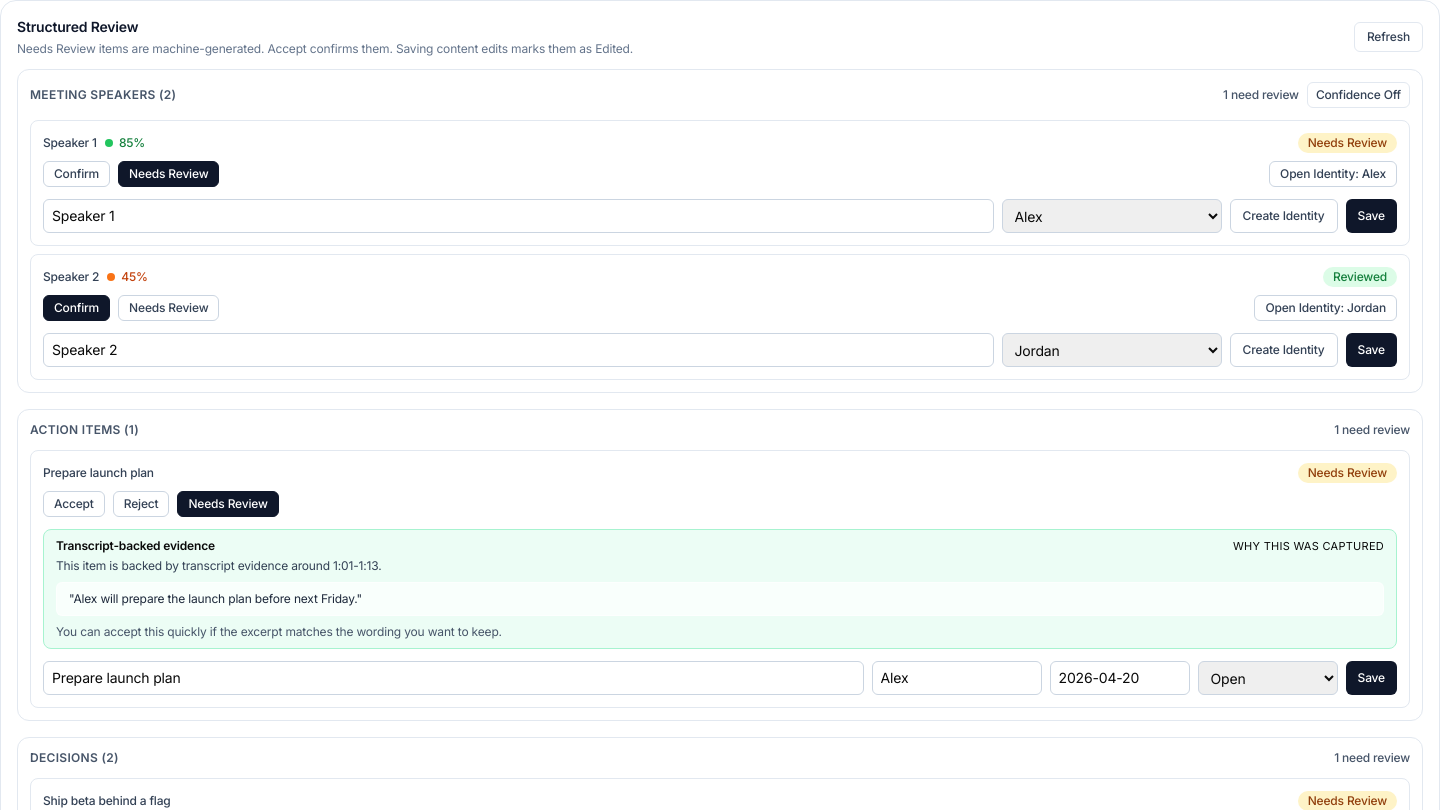
Test: StructuredReviewPanel › cycles speaker confidence sort labels
What coordinates should you click on to do the following:
click the button with aria-label "Sort speakers by confidence"
I would click on:
 (1358, 95)
Its box is [1307, 82, 1410, 108].
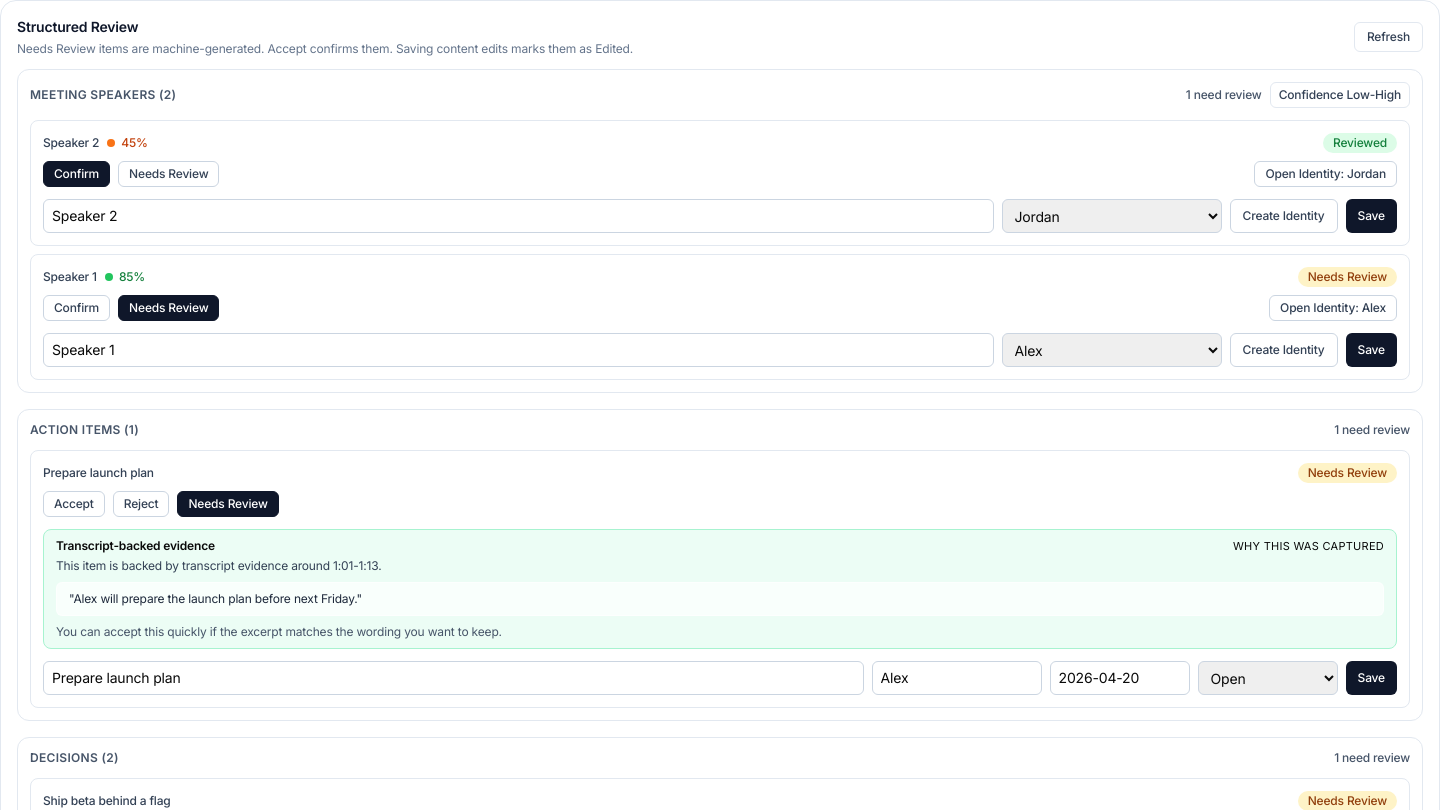
Result: the button with aria-label "Sort speakers by confidence" reads "Confidence Low-High"
What coordinates should you click on to do the following:
click the button with aria-label "Sort speakers by confidence"
I would click on:
 (1340, 95)
Its box is [1270, 82, 1410, 108].
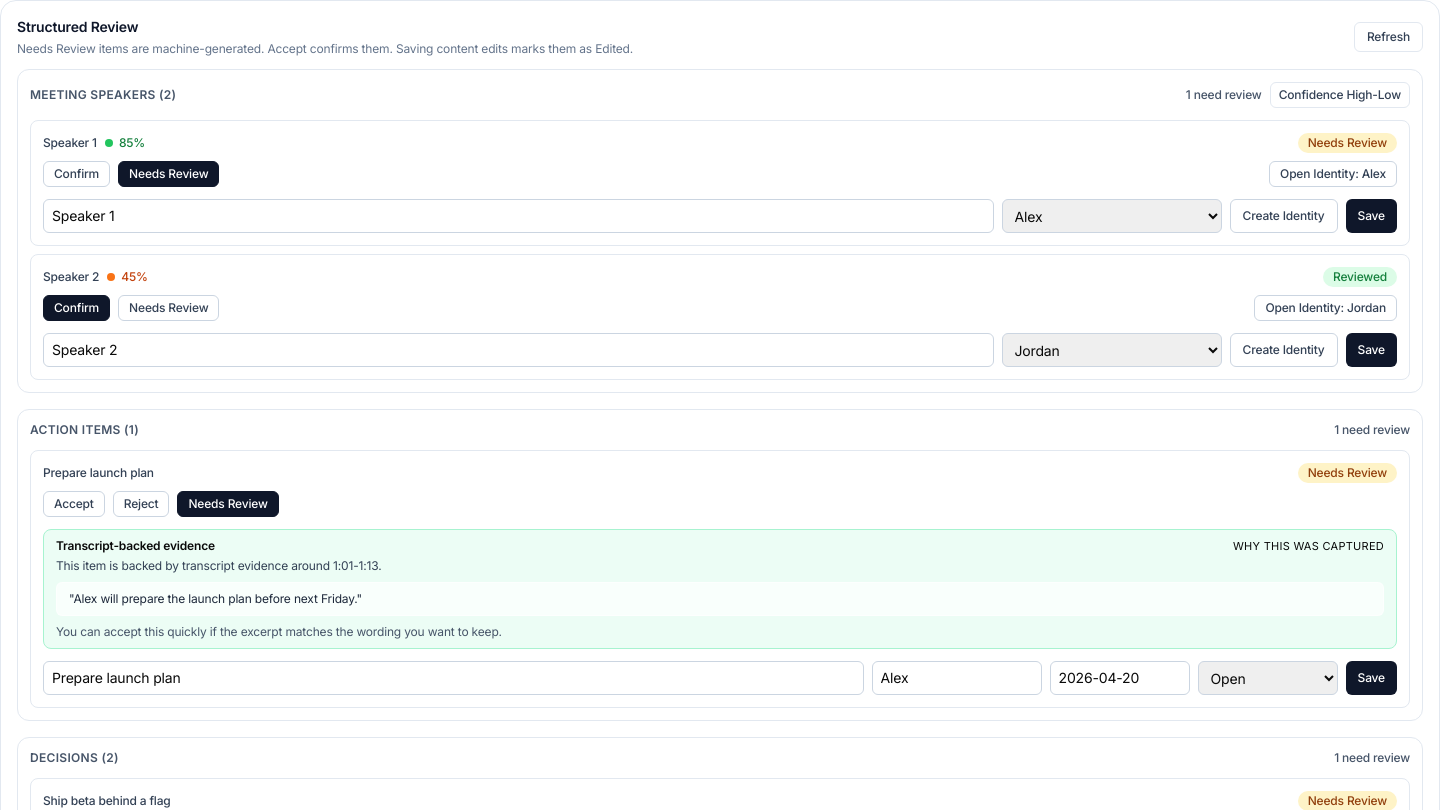
Result: the button with aria-label "Sort speakers by confidence" reads "Confidence High-Low" at [1270, 82, 1410, 108]
